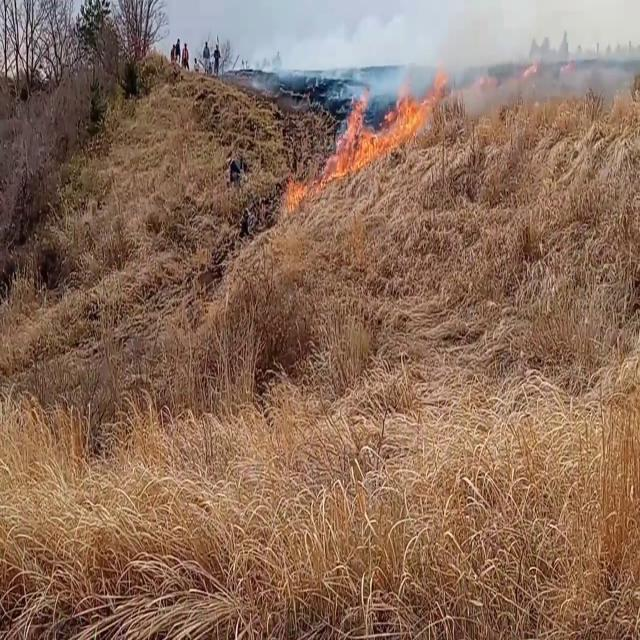Fire: (325, 66, 438, 182), (282, 164, 310, 216)
